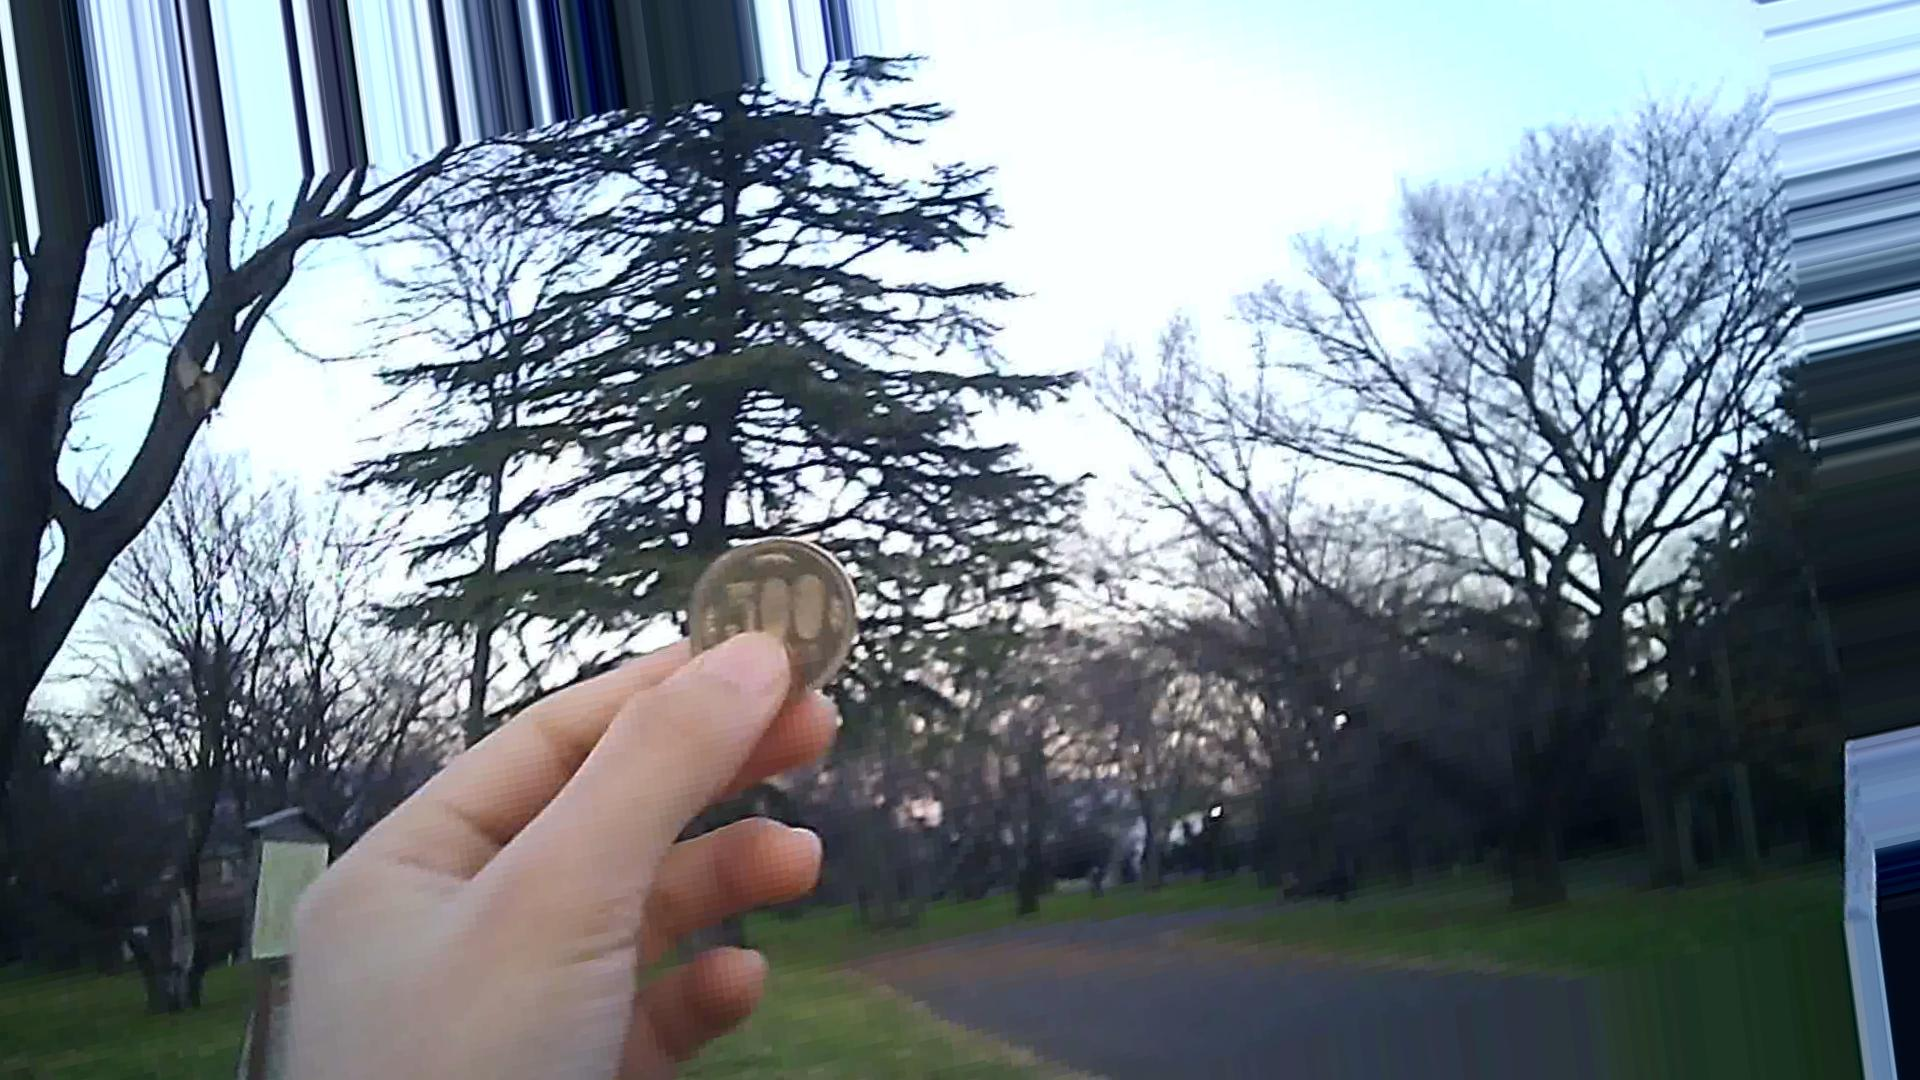500 Yen: (683, 534, 861, 705)
